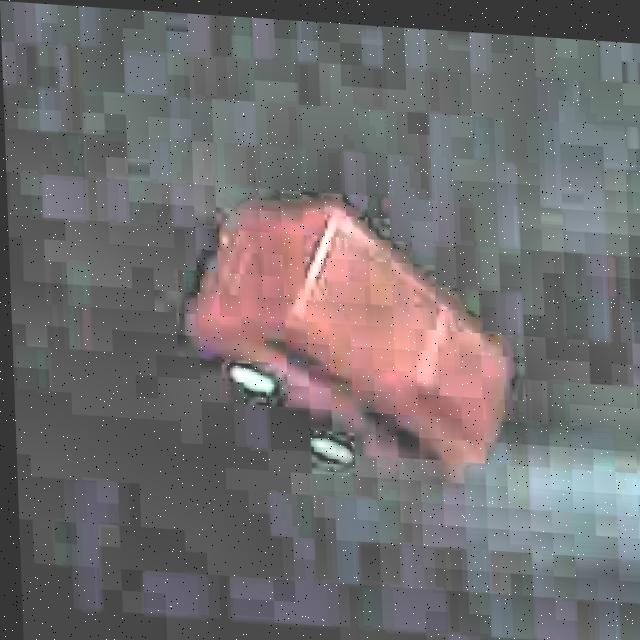bus: (166, 174, 534, 482)
